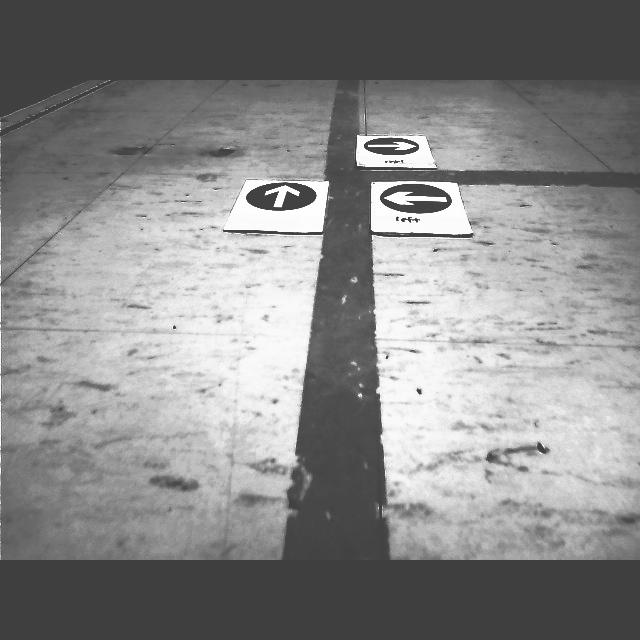GO FORWARD: (246, 182, 317, 211)
TURN LEFT: (380, 183, 452, 213)
TURN RIGHT: (365, 137, 418, 154)
